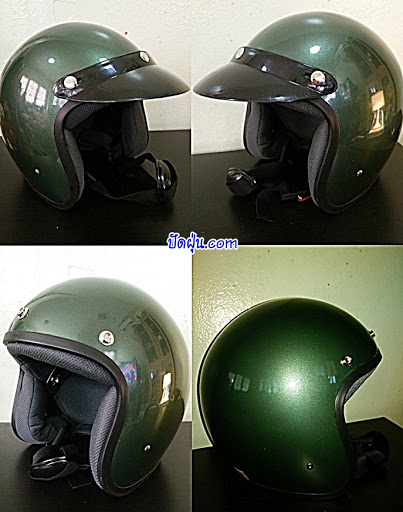helmet: (193, 11, 403, 209), (4, 278, 189, 496), (198, 297, 383, 495), (1, 22, 189, 212)
